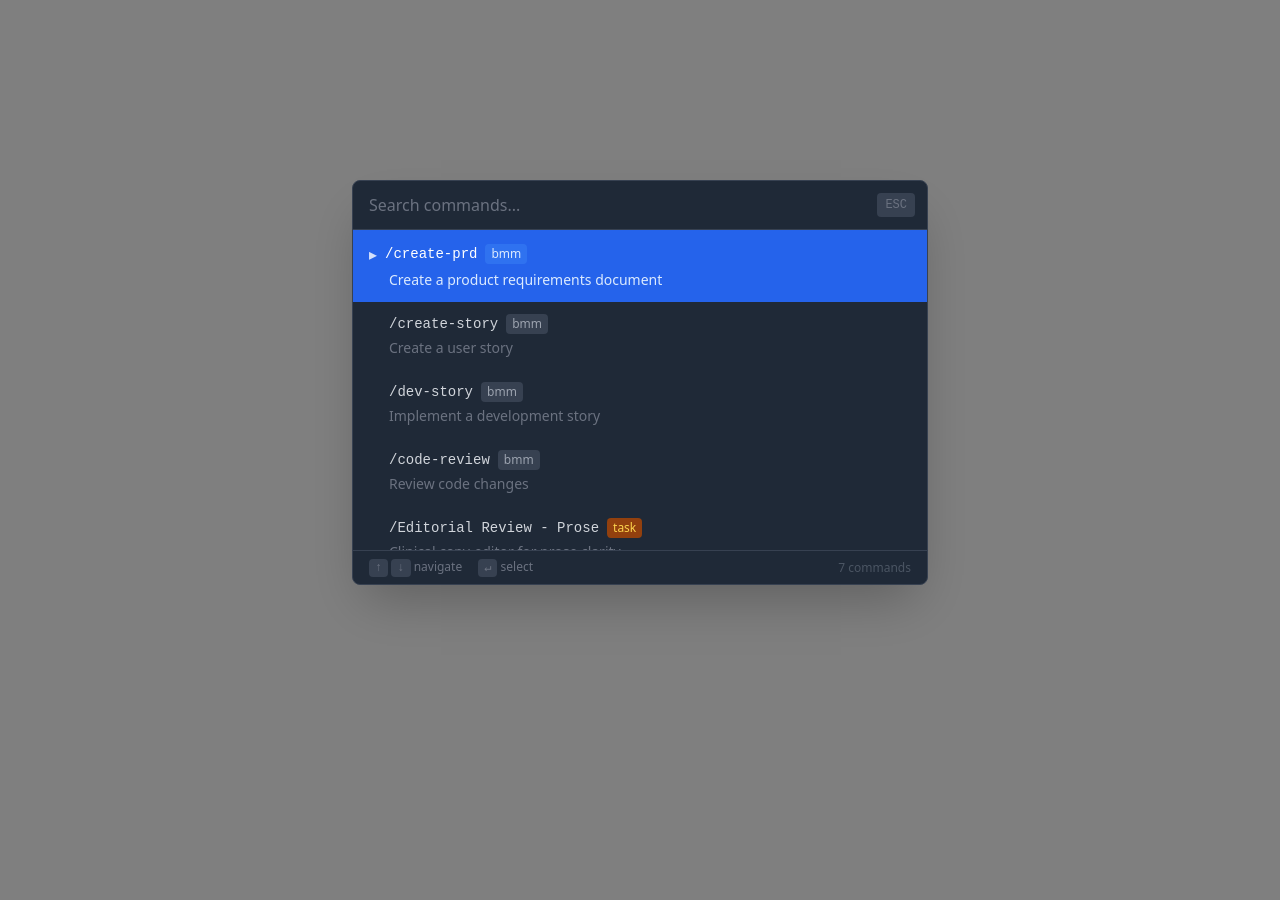
it: CommandPalette › task integration › shows mixed results when search matches both tasks and workflows
Expected: the text "/code-review" is shown, [389,450,490,470]
Type "review" into the field with placeholder "Search commands..." at (640, 205), box [353,181,927,229]
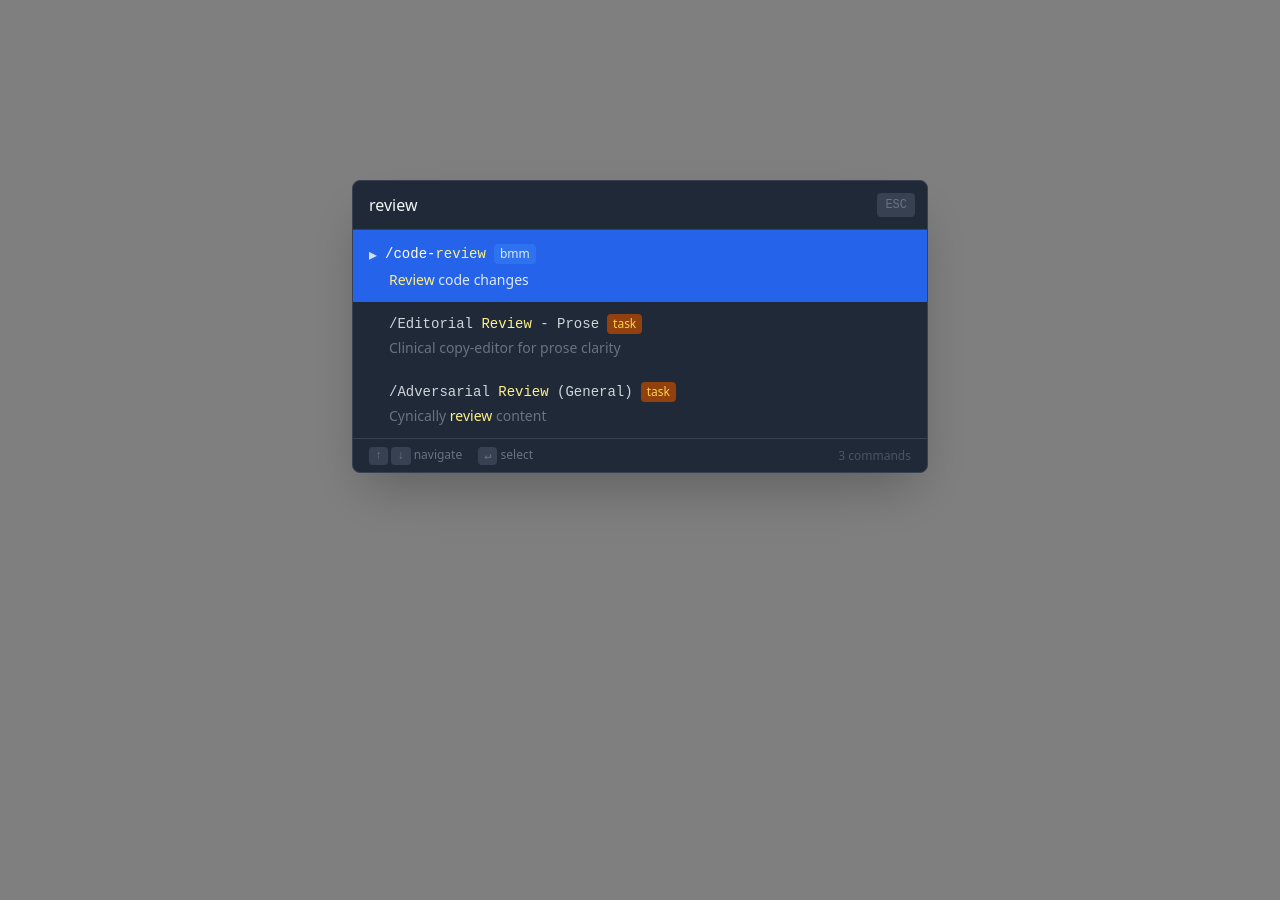
Expected: the option "▸ /code-review bmm Review code changes" is shown, [353,230,927,302]
Expected: the option "/Adversarial Review (General) task Cynically review content" is shown, [353,370,927,438]
